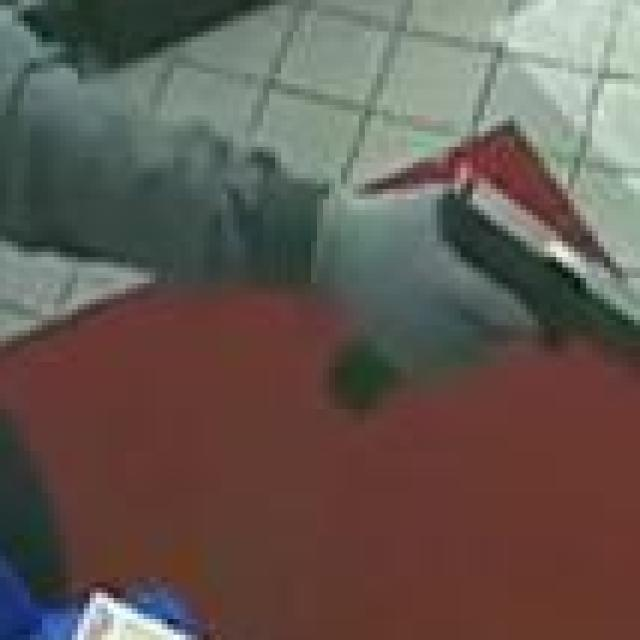Guns: (305, 152, 640, 425)
